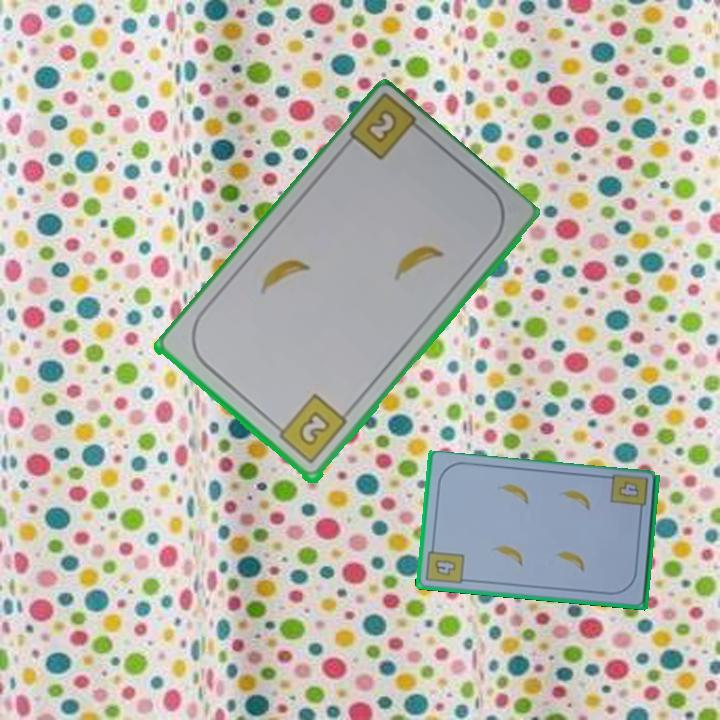2b: (269, 391, 350, 468), (362, 110, 397, 147)
4b: (423, 541, 467, 587), (614, 478, 642, 501)
